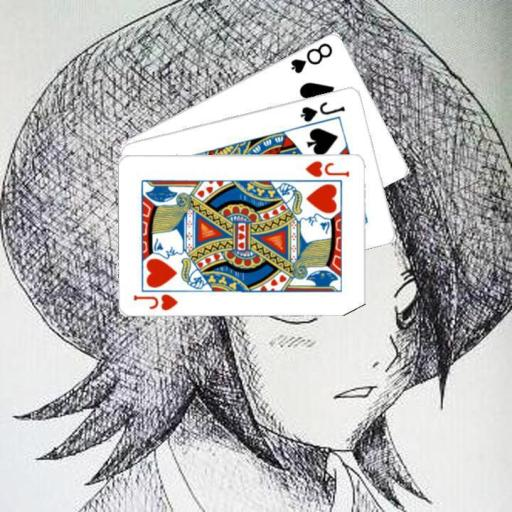card-corner: (288, 39, 334, 75), (297, 97, 347, 123), (302, 157, 351, 178), (131, 291, 179, 311)
